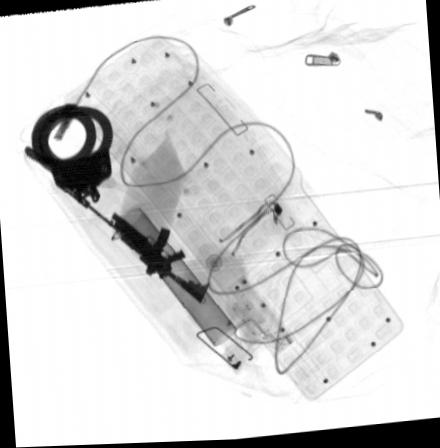Gun: (53, 175, 213, 308)
HandCuffs: (31, 101, 114, 206)
